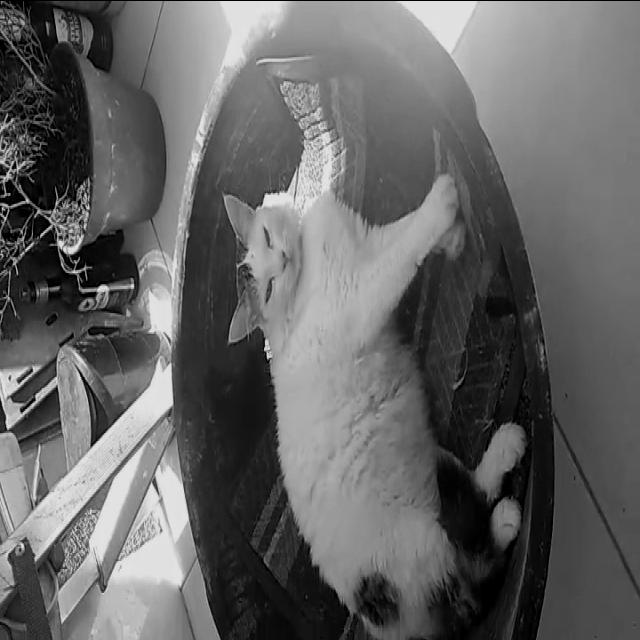Simba: (215, 155, 554, 629)
